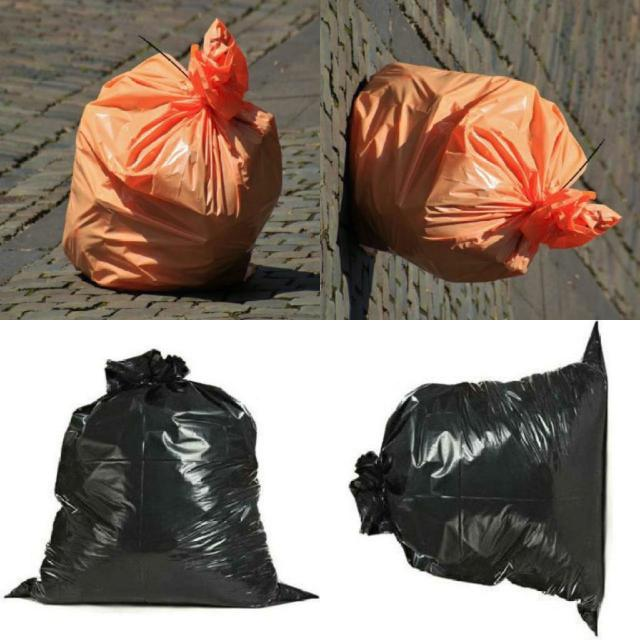Single-layer Plastic: (351, 325, 608, 630), (10, 350, 310, 608), (350, 62, 620, 282), (62, 20, 281, 291)
